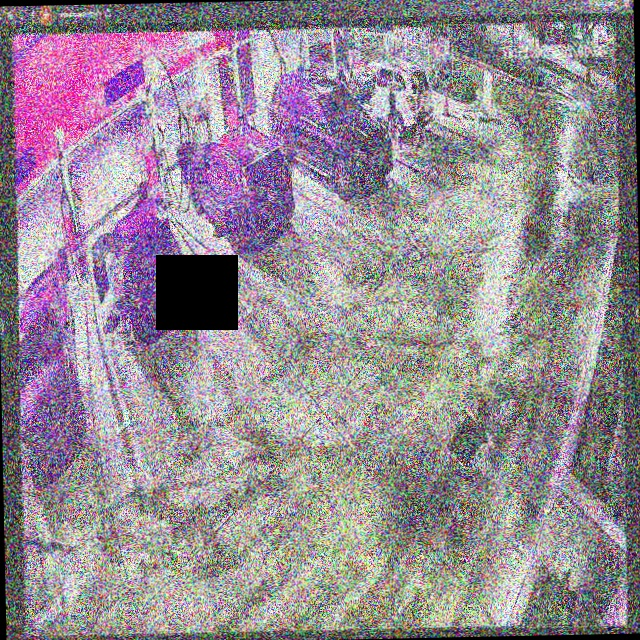Car: (266, 71, 394, 195), (91, 197, 193, 346), (186, 126, 292, 256)
